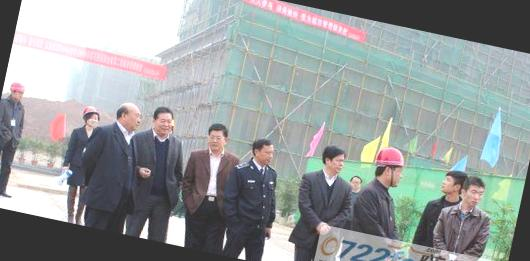no_helmet: (112, 96, 146, 132), (148, 103, 181, 140), (317, 141, 350, 178), (436, 164, 468, 202), (247, 132, 280, 168), (461, 174, 491, 212), (202, 120, 234, 155), (345, 172, 366, 196)
